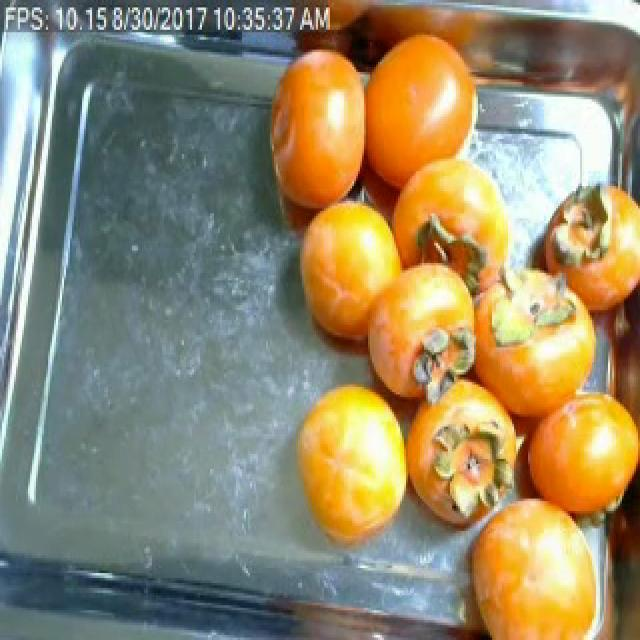Fruit: (280, 362, 424, 568), (448, 481, 602, 640), (254, 32, 376, 231)
